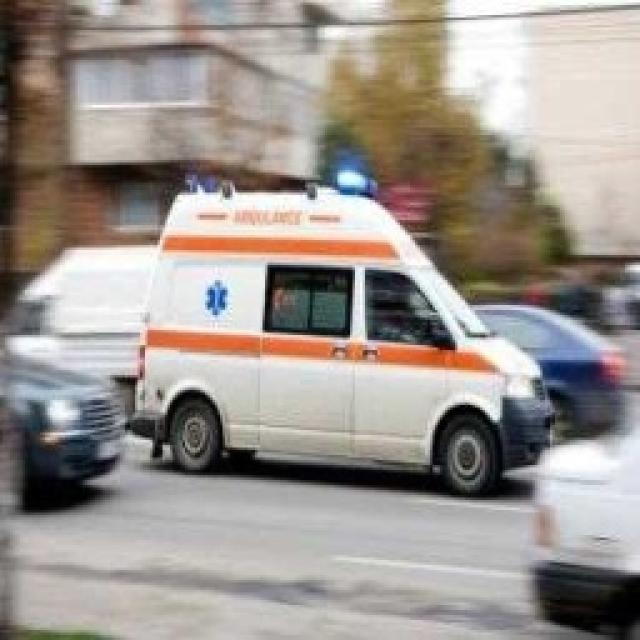emergency-vehicle: (138, 152, 558, 503)
